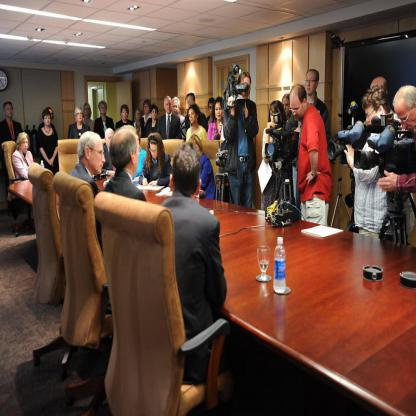face: (395, 103, 416, 134), (91, 140, 107, 175), (129, 131, 140, 174), (366, 105, 380, 132), (291, 100, 304, 122), (241, 79, 252, 101), (306, 72, 316, 95), (271, 108, 281, 130), (283, 98, 291, 117), (216, 103, 224, 120), (21, 139, 29, 154), (189, 110, 197, 124), (151, 145, 159, 159), (108, 135, 115, 151), (77, 110, 84, 124), (188, 96, 195, 110), (6, 105, 13, 118), (173, 101, 179, 115), (209, 104, 215, 118), (166, 100, 172, 113), (45, 115, 52, 126), (102, 103, 108, 115), (123, 109, 128, 121), (144, 104, 150, 114), (152, 109, 158, 119), (85, 107, 90, 117), (48, 110, 53, 120), (135, 136, 140, 146), (137, 111, 141, 120)
